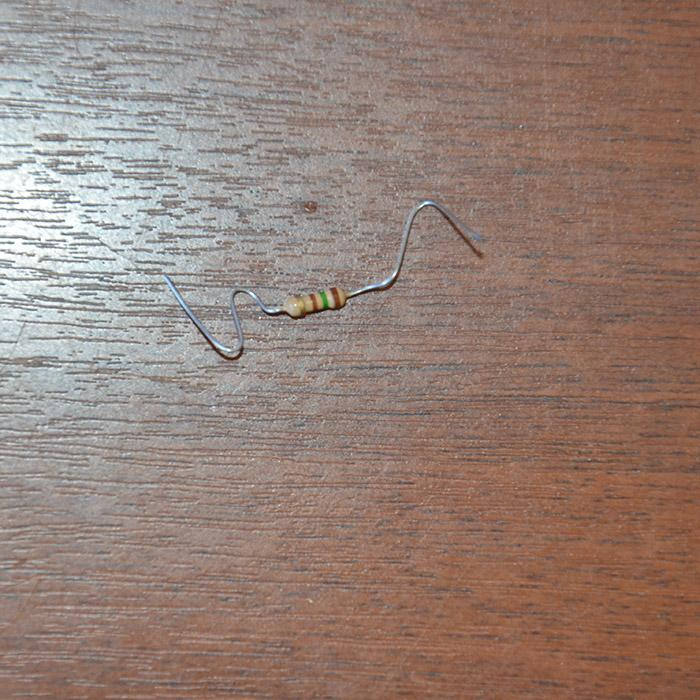resistor: (284, 285, 348, 318)
